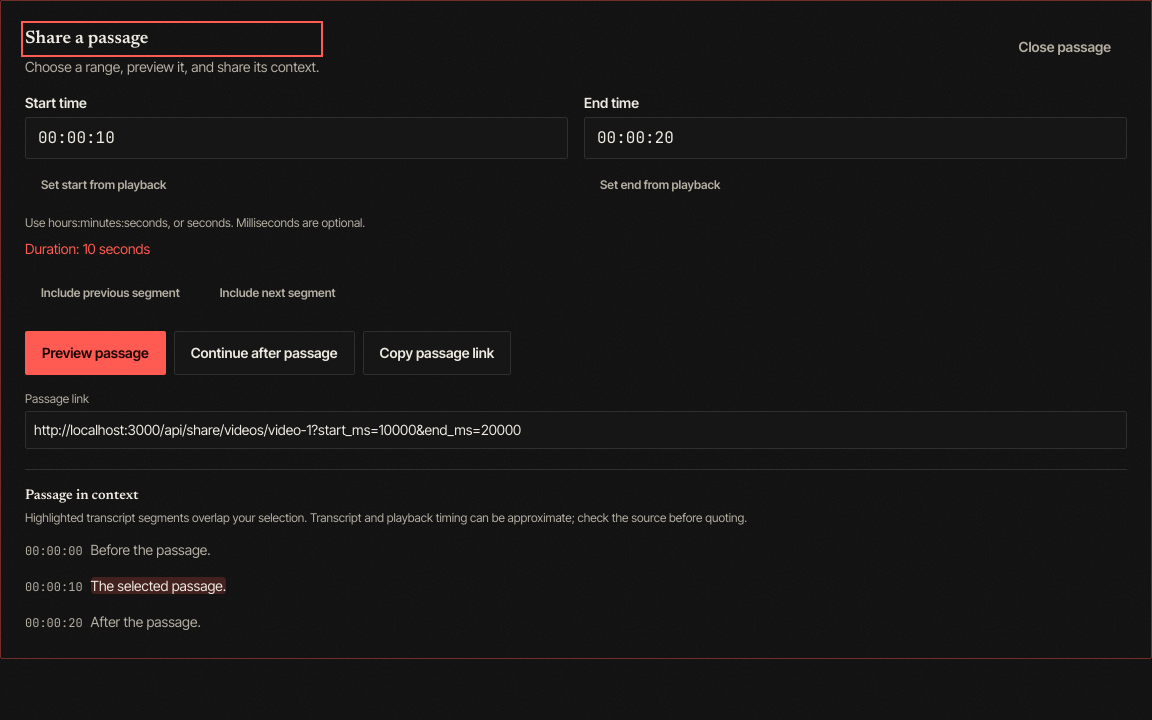
Scenario: PassagePanel › extends a selection to adjacent transcript segments
What coordinates should you click on to do the following:
click the button "Include previous segment"
I would click on:
 (110, 293)
Its box is 25,271 -> 196,315.
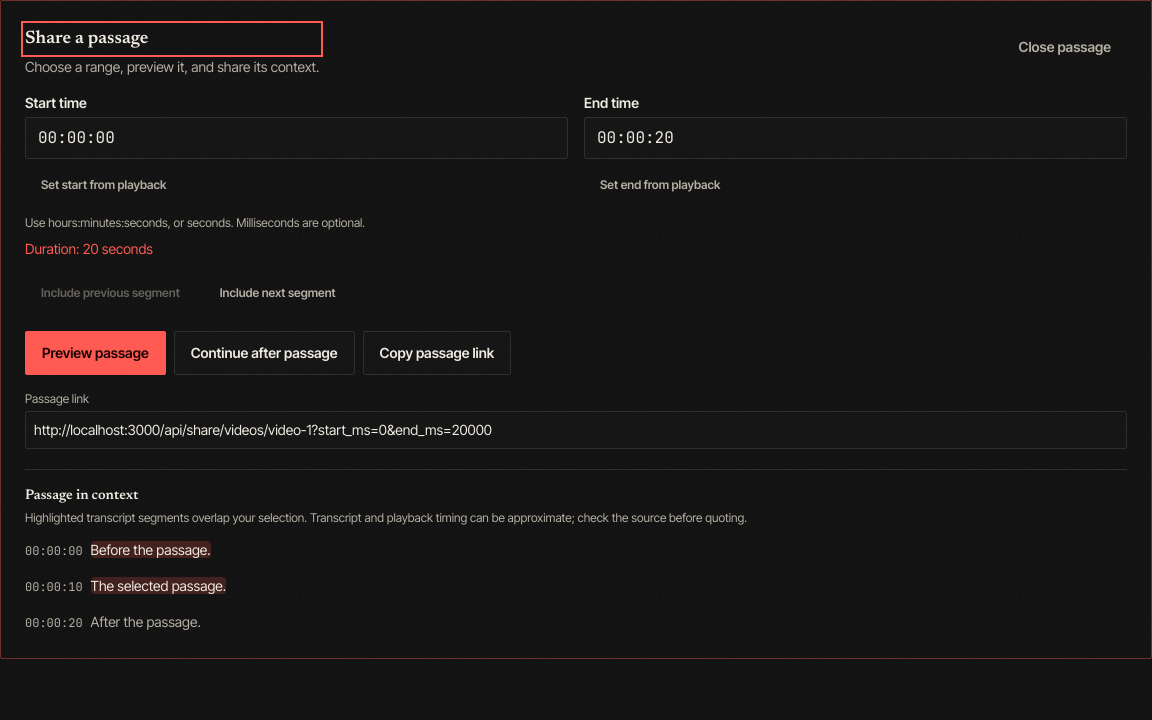
Now the field labelled "Start time" holds "00:00:00", box 25,117 -> 568,159
Now the button "Include previous segment" is disabled, box 25,271 -> 196,315
What coordinates should you click on to do the following:
click the button "Include next segment"
I would click on:
 (278, 293)
Its box is 204,271 -> 352,315.
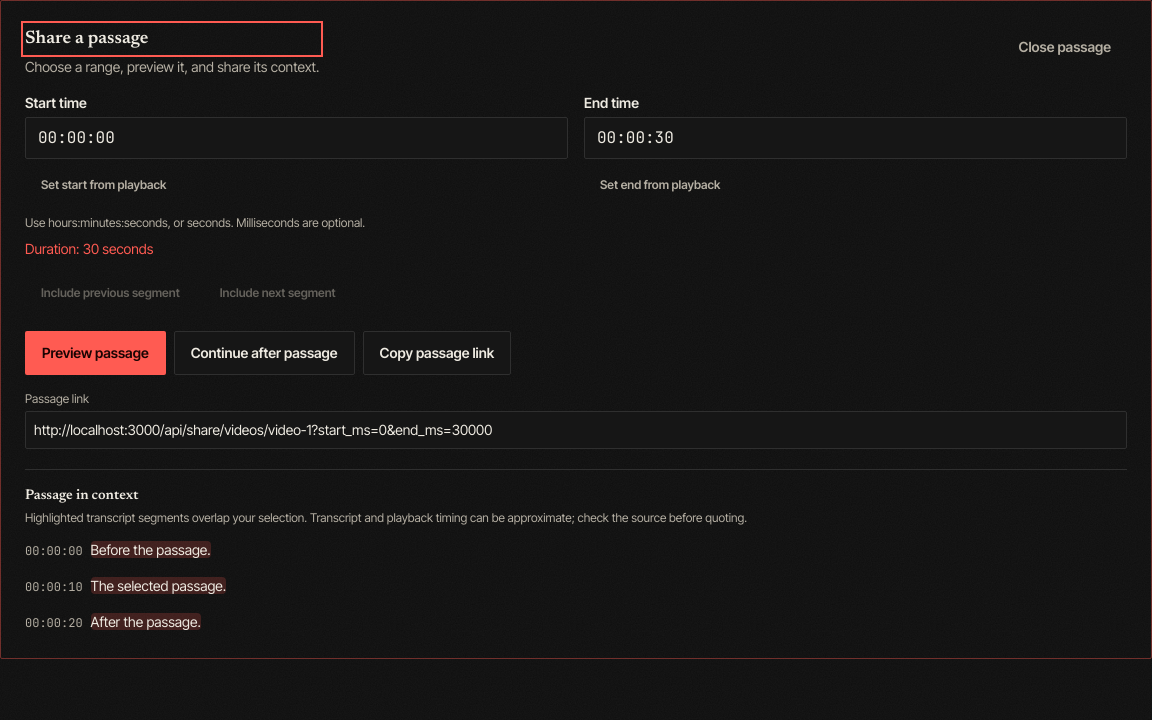
Now the field labelled "End time" holds "00:00:30", box 584,117 -> 1127,159
Now the button "Include next segment" is disabled, box 204,271 -> 352,315
